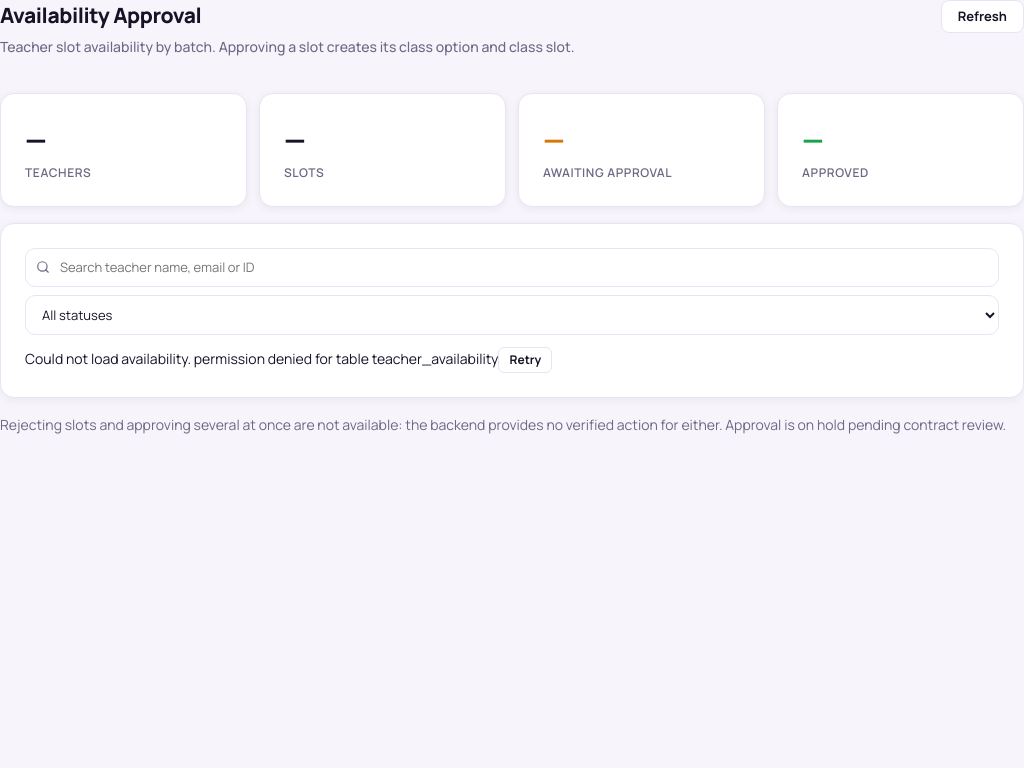
it: AvailabilityApprovalPage states › shows an error banner with the database message and a working Retry
Expected: the message shows "Could not load availability. permission denied for table teacher_availability", [25, 349, 498, 368]
Click the button "Retry" at (525, 360), box [498, 347, 552, 373]
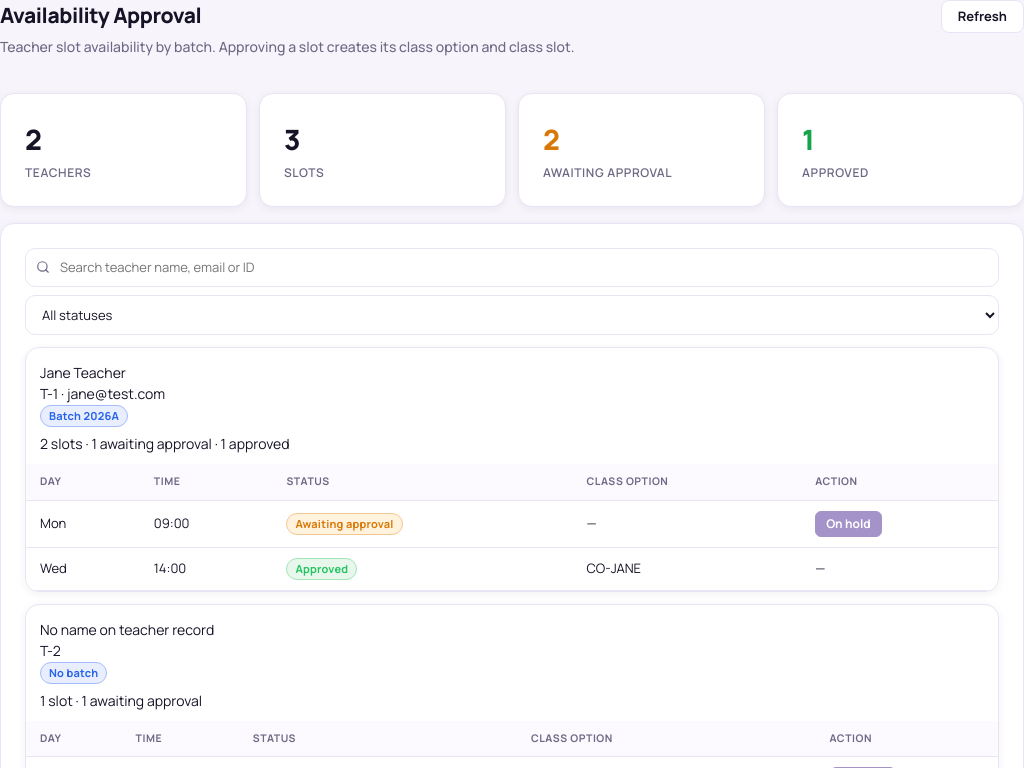
Result: the text "Jane Teacher" is shown at [40, 363, 126, 382]
